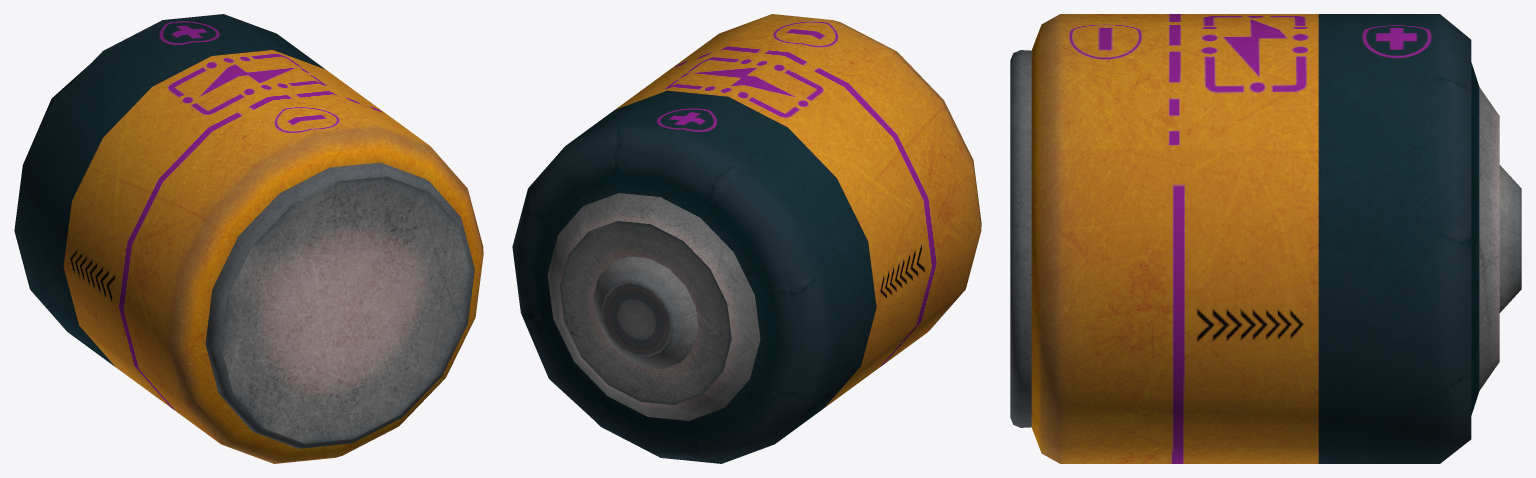
Rendered from Power Cell.fbx.
The picture shows the model from 3 angles, left to right: view 1: azimuth 30°, elevation 25°; view 2: azimuth 150°, elevation 25°; view 3: azimuth 270°, elevation 25°; orthographic projection. The views are drawn at different scales.
Visible parts, largest first — view 1: Cylinder_LP; view 2: Cylinder_LP; view 3: Cylinder_LP.
Part boxes in pixels (bbox=[...]): Cylinder_LP: bbox=[14, 14, 483, 463]; Cylinder_LP: bbox=[512, 14, 981, 463]; Cylinder_LP: bbox=[1010, 14, 1521, 463].
Bounding box in the file's own units: 62.39 × 62.39 × 71.04.
Materials: 1 (1 with a texture image).
